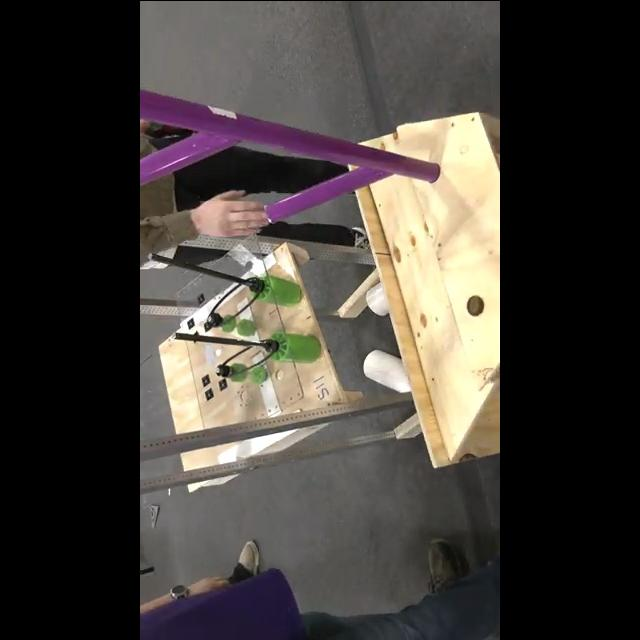CORAL: (361, 350, 411, 394), (366, 283, 388, 313)
